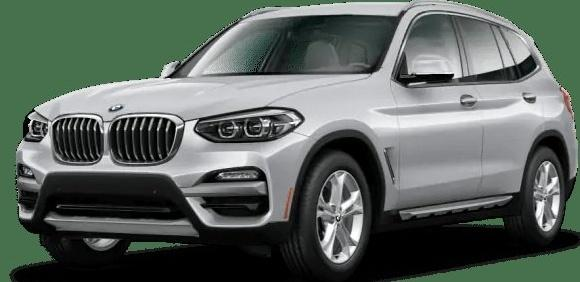SUV: (17, 2, 578, 281)
